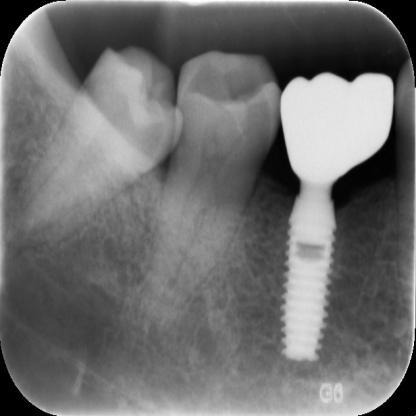Bicon: (278, 180, 348, 368)
